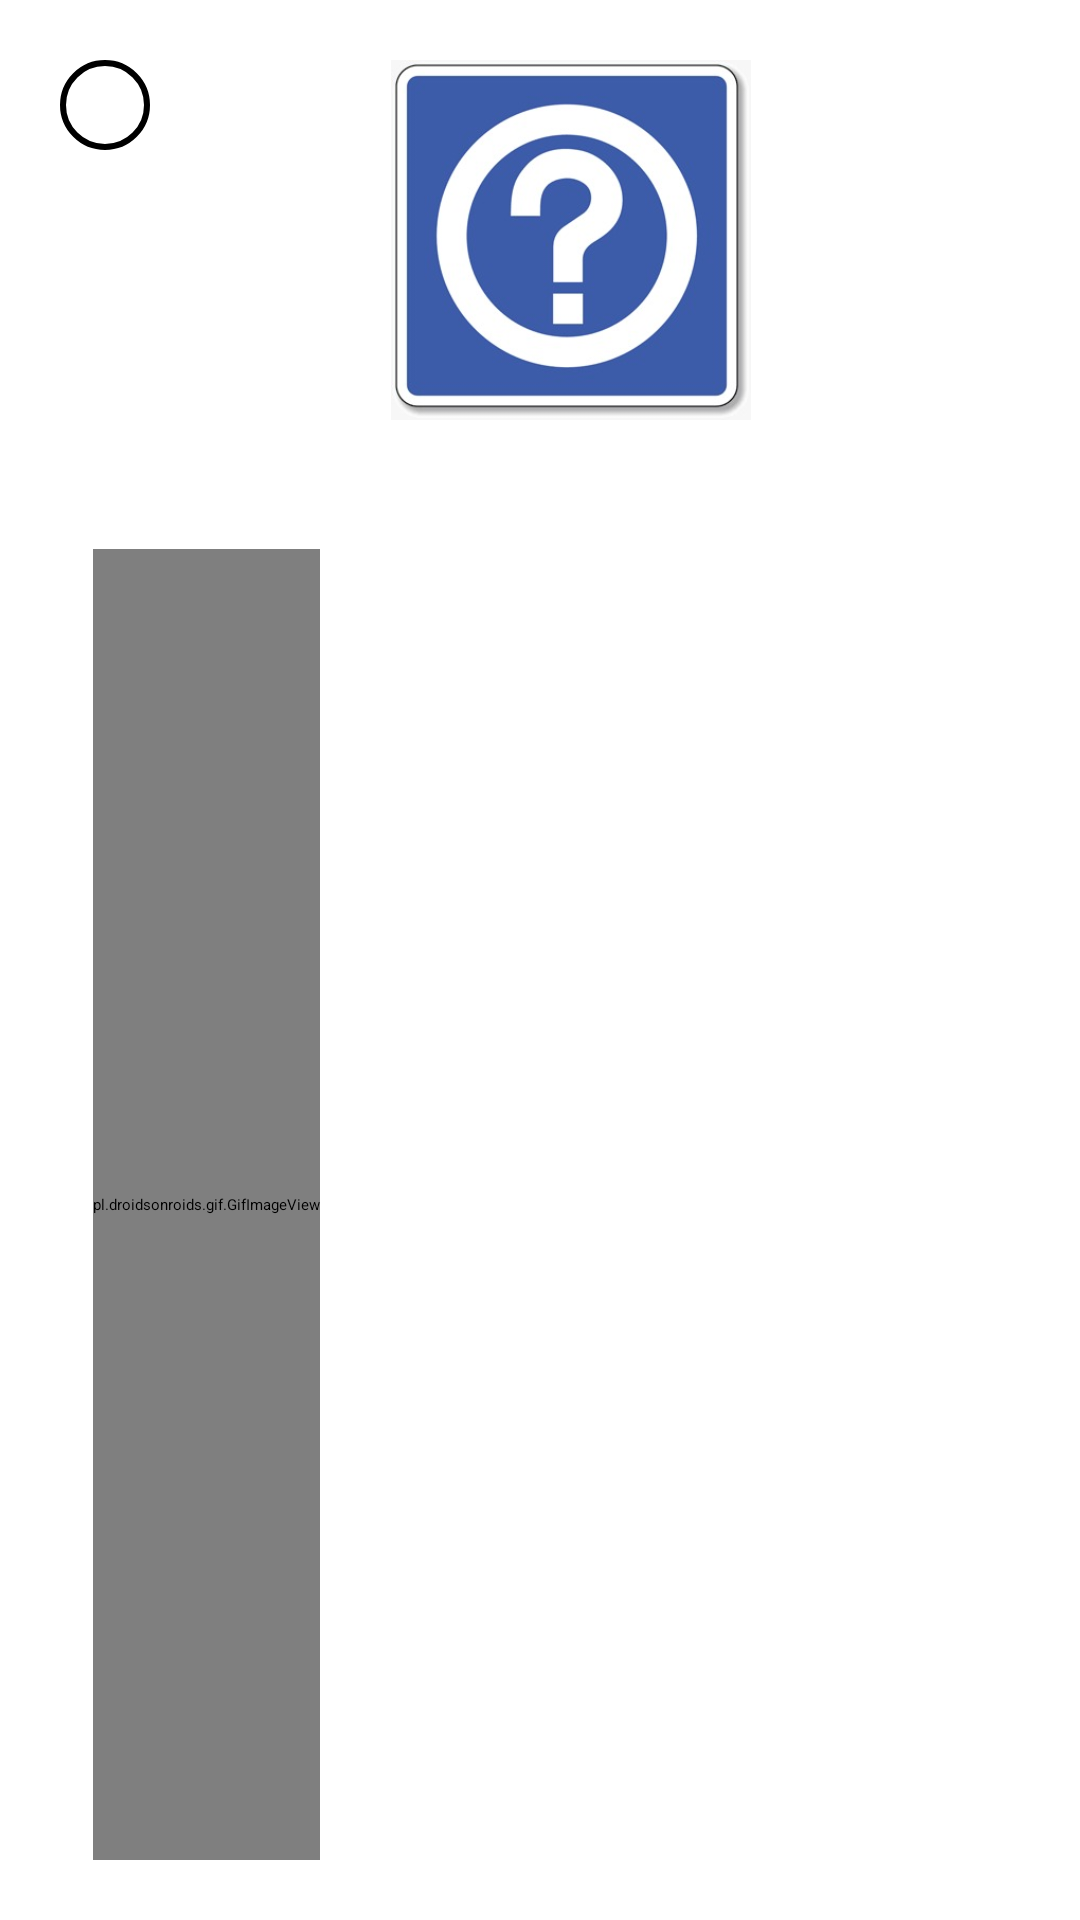

Icon bounding boxes for this 1080w x 1920h phone screenshot, format (x1, y1, x2, y2):
signo: (395, 64, 745, 414)
